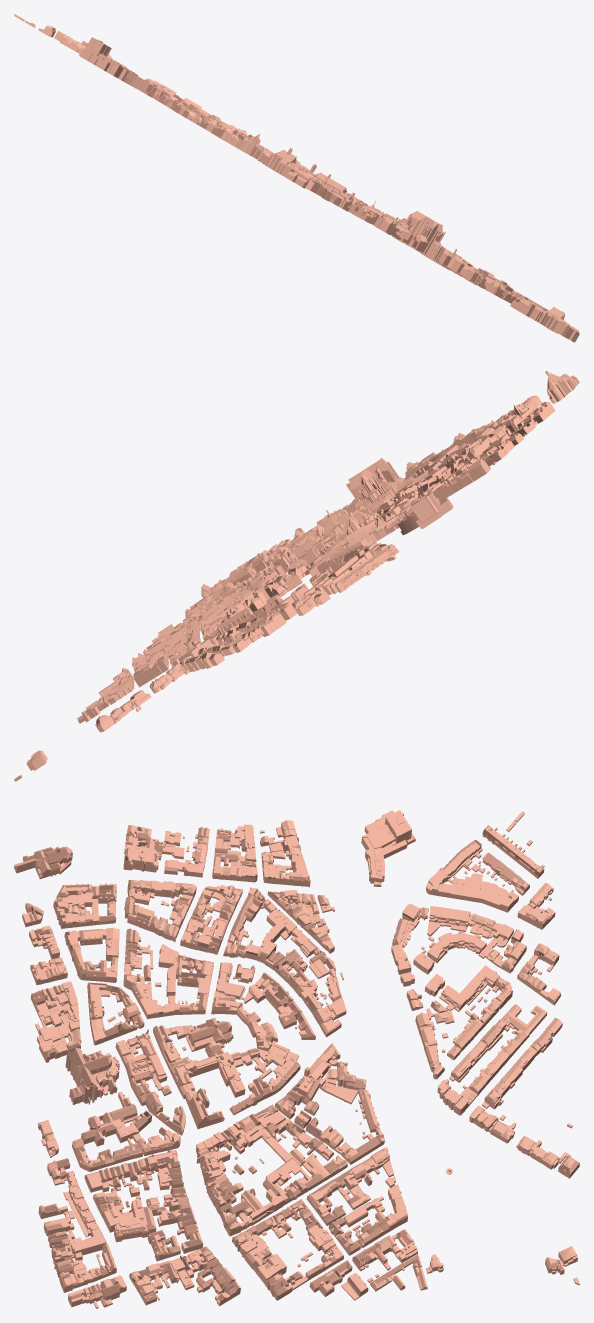
3 views of the same model, one above another, from view 1: azimuth 30°, elevation 25°; view 2: azimuth 150°, elevation 25°; view 3: azimuth 270°, elevation 25° (orthographic). The views are drawn at different scales.
Size of the model in its own units: 537 by 398 by 645.
